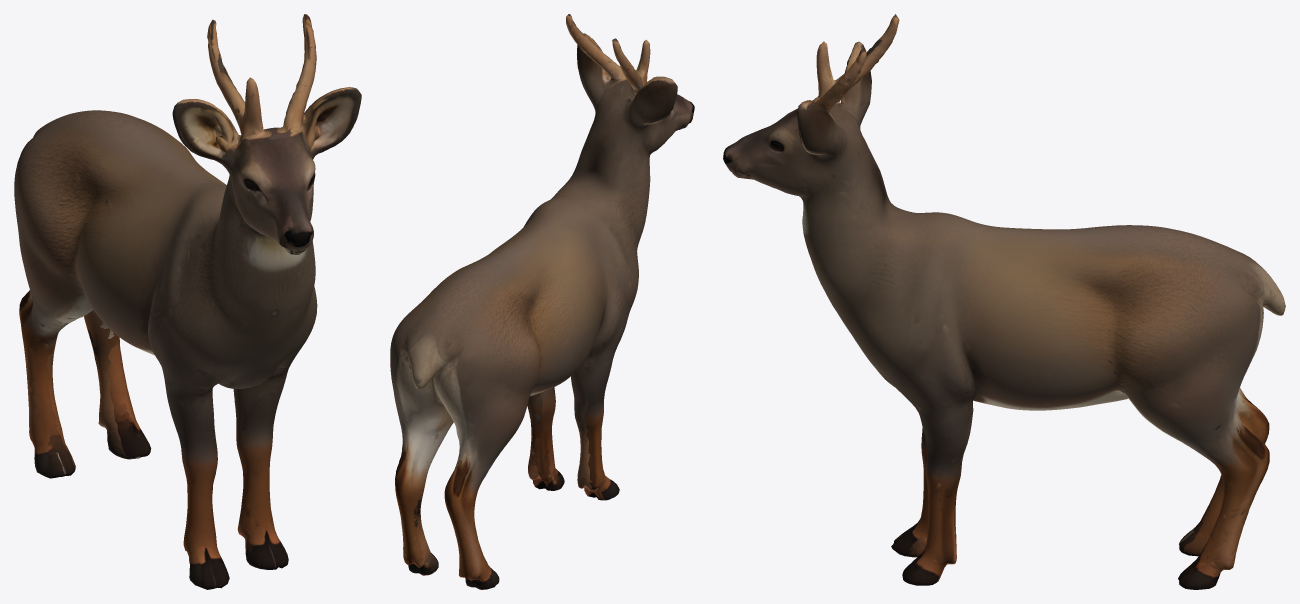
The model's file is huemul.glb.
3 views of the same model, side by side, from view 1: azimuth 30°, elevation 25°; view 2: azimuth 150°, elevation 25°; view 3: azimuth 270°, elevation 25° (orthographic). The views are drawn at different scales.
Visible parts, largest first — view 1: huemul; view 2: huemul; view 3: huemul.
Boxes of the visible parts, x1,y1,x2,y2 form: huemul: (14,14,361,589); huemul: (390,14,694,589); huemul: (723,14,1285,589).
Bounding box in the file's own units: 0.4635 × 1.39 × 1.33.
1 material, 1 textured.
